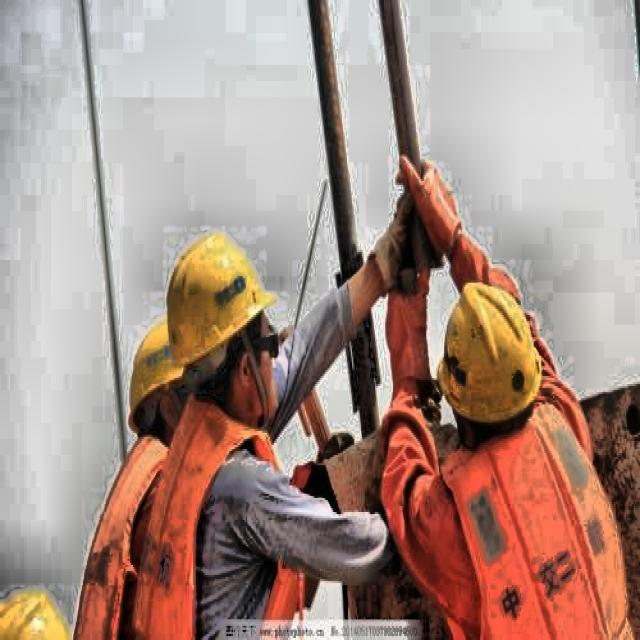helmet: (166, 209, 290, 431), (425, 272, 566, 459), (124, 319, 210, 457)
